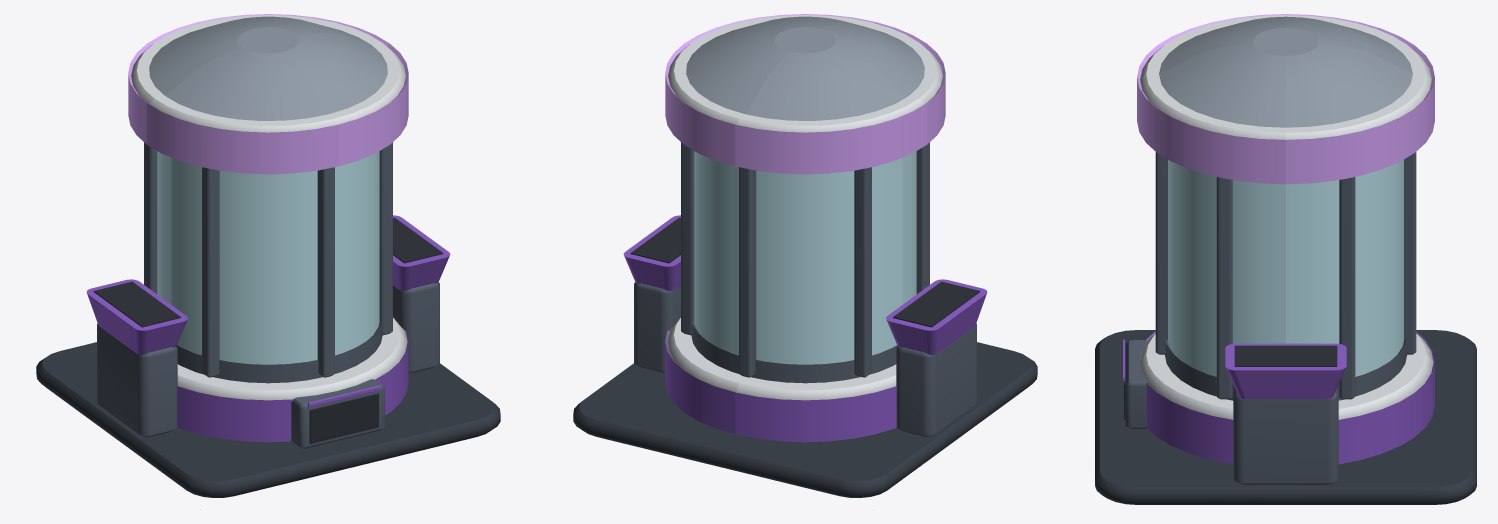
File: fabricateur_universel.glb
3 renders of one model, left to right at view 1: azimuth 30°, elevation 25°; view 2: azimuth 150°, elevation 25°; view 3: azimuth 270°, elevation 25°, orthographic. The views are drawn at different scales.
Parts seen in each view (by area): view 1: vitre_chambre_av_vitre.002, pieces_av_sombre.006, pieces_av_fonce.008, pieces_av_gris.008, voyant_fab_av_plasma.002, pieces_av_violet.002, pieces_av_blanc.004, pieces_av_grille.004; view 2: vitre_chambre_av_vitre.002, pieces_av_sombre.006, pieces_av_fonce.008, pieces_av_gris.008, pieces_av_violet.002, voyant_fab_av_plasma.002, pieces_av_blanc.004, pieces_av_grille.004; view 3: vitre_chambre_av_vitre.002, pieces_av_fonce.008, pieces_av_sombre.006, pieces_av_gris.008, voyant_fab_av_plasma.002, pieces_av_violet.002, pieces_av_blanc.004, pieces_av_grille.004.
Part boxes in pixels (x1,y1,x2,y2): vitre_chambre_av_vitre.002: (157, 151, 379, 364); pieces_av_sombre.006: (97, 142, 439, 448); pieces_av_fonce.008: (36, 342, 500, 497); pieces_av_gris.008: (149, 16, 387, 120); voyant_fab_av_plasma.002: (128, 14, 408, 174); pieces_av_violet.002: (86, 215, 450, 442); pieces_av_blanc.004: (131, 15, 407, 442); pieces_av_grille.004: (93, 217, 443, 443); vitre_chambre_av_vitre.002: (694, 151, 916, 364); pieces_av_sombre.006: (634, 142, 976, 436); pieces_av_fonce.008: (573, 342, 1037, 497); pieces_av_gris.008: (686, 16, 924, 120); pieces_av_violet.002: (623, 215, 987, 442); voyant_fab_av_plasma.002: (665, 14, 945, 174); pieces_av_blanc.004: (666, 15, 942, 442); pieces_av_grille.004: (630, 217, 980, 327); vitre_chambre_av_vitre.002: (1168, 159, 1403, 376); pieces_av_fonce.008: (1095, 330, 1476, 504); pieces_av_sombre.006: (1125, 152, 1416, 484); pieces_av_gris.008: (1159, 16, 1412, 127); voyant_fab_av_plasma.002: (1137, 14, 1434, 184); pieces_av_violet.002: (1122, 331, 1434, 464); pieces_av_blanc.004: (1139, 15, 1433, 419); pieces_av_grille.004: (1124, 345, 1337, 419).
Bounding box in the file's own units: 1.5 × 1.61 × 1.5.
